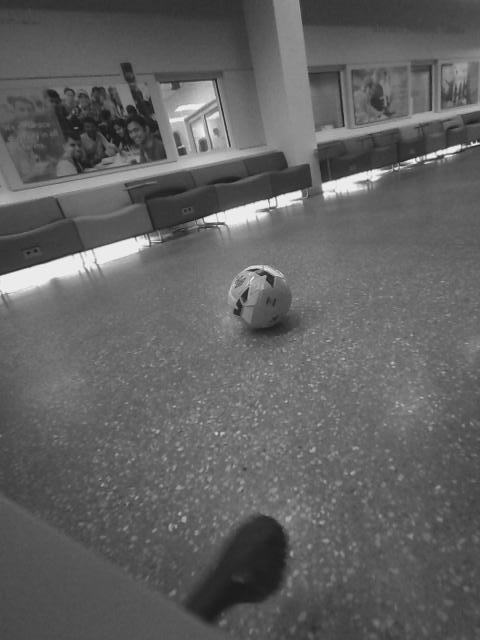ball: (224, 260, 300, 336)
